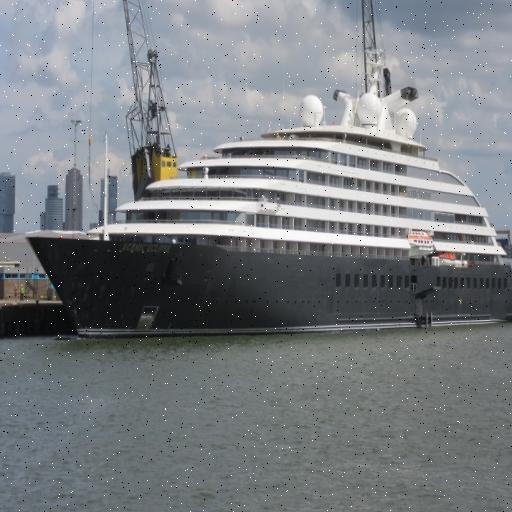cruises: (9, 47, 512, 350)
